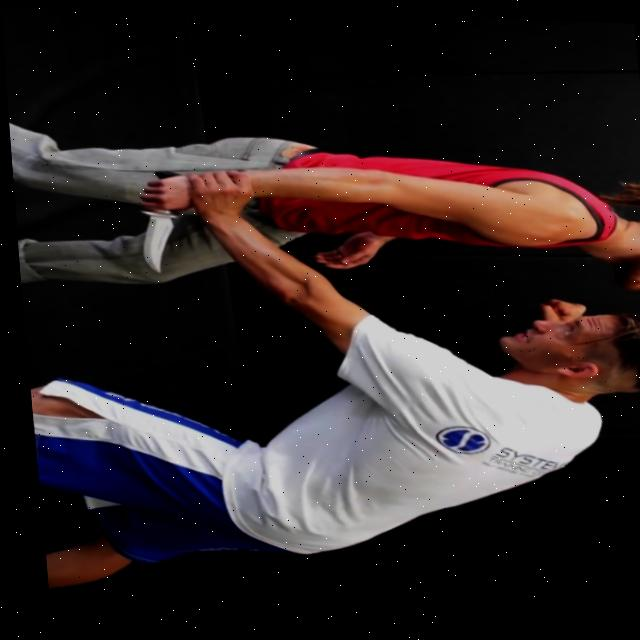knife: (136, 206, 180, 272)
